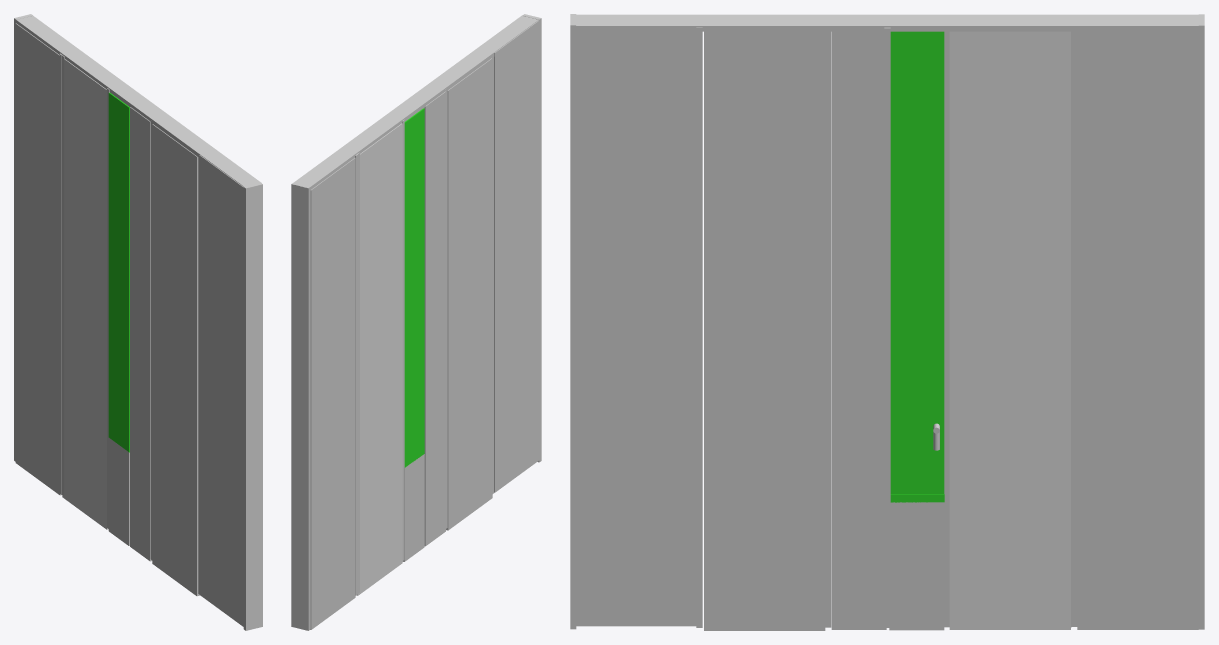
Rendered from Fenster_zweiteReihe.fbx.
The picture shows the model from 3 angles, left to right: view 1: azimuth 30°, elevation 25°; view 2: azimuth 150°, elevation 25°; view 3: azimuth 270°, elevation 25°; orthographic projection. The views are drawn at different scales.
Parts seen in each view (by area): view 1: Cube.002, Cube.008, Cube.003, Cube.004, Cube.001, Cube.005, Cube.006, Cube.009, Cube.007, Cube.015, Cube.014, Cube.011 (+3 smaller); view 2: Cube.002, Cube.003, Cube.008, Cube.004, Cube.001, Cube.010, Cube.006, Cube.009, Cube.007, Cube.015, Cube.005, Cube.013 (+3 smaller); view 3: Cube.002, Cube.008, Cube.004, Cube.003, Cube.001, Cube.006, Cube.009, Cube.007, Cube.005, Cube.010, Cube, Cube.012 (+3 smaller).
Boxes of the visible parts, <box> form: Cube.002: <box>152,124,199,596</box>; Cube.008: <box>15,23,61,495</box>; Cube.003: <box>199,155,243,626</box>; Cube.004: <box>62,59,108,529</box>; Cube.001: <box>130,107,152,561</box>; Cube.005: <box>243,182,262,630</box>; Cube.006: <box>108,92,129,452</box>; Cube.009: <box>16,16,261,186</box>; Cube.007: <box>108,438,129,545</box>; Cube.015: <box>59,53,62,494</box>; Cube.014: <box>62,55,64,496</box>; Cube.011: <box>150,120,152,559</box>; Cube.002: <box>446,58,492,530</box>; Cube.003: <box>494,20,539,492</box>; Cube.008: <box>310,158,355,629</box>; Cube.004: <box>356,123,402,595</box>; Cube.001: <box>424,91,445,546</box>; Cube.010: <box>291,182,310,630</box>; Cube.006: <box>404,108,424,467</box>; Cube.009: <box>291,15,538,192</box>; Cube.007: <box>402,454,424,561</box>; Cube.015: <box>355,154,358,595</box>; Cube.005: <box>522,14,541,462</box>; Cube.013: <box>402,119,404,560</box>; Cube.002: <box>704,31,825,630</box>; Cube.008: <box>1077,31,1198,629</box>; Cube.004: <box>949,31,1070,629</box>; Cube.003: <box>576,31,696,626</box>; Cube.001: <box>831,31,886,629</box>; Cube.006: <box>890,31,944,502</box>; Cube.009: <box>576,14,1204,31</box>; Cube.007: <box>889,502,944,630</box>; Cube.005: <box>570,14,576,629</box>; Cube.010: <box>1198,14,1204,629</box>; Cube: <box>884,27,890,627</box>; Cube.012: <box>696,27,702,627</box>.
Bounding box in the file's own units: 17.04 × 303 × 288.
